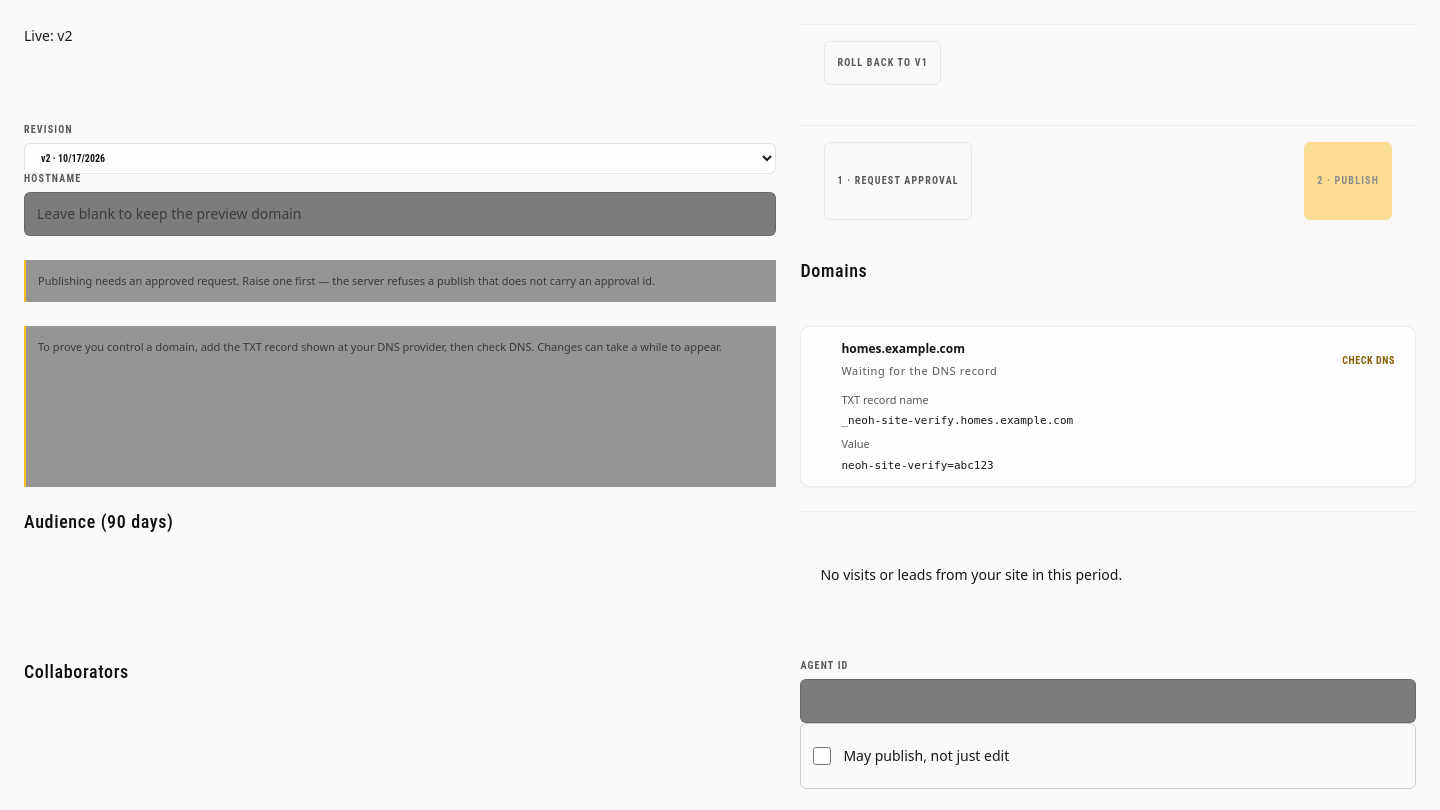
Test: SitePublishPanel › checks DNS and says plainly that nothing changed when DNS cannot be reached
Click the button "Check DNS". click: [1369, 361]
box: 1342,339 -> 1395,383
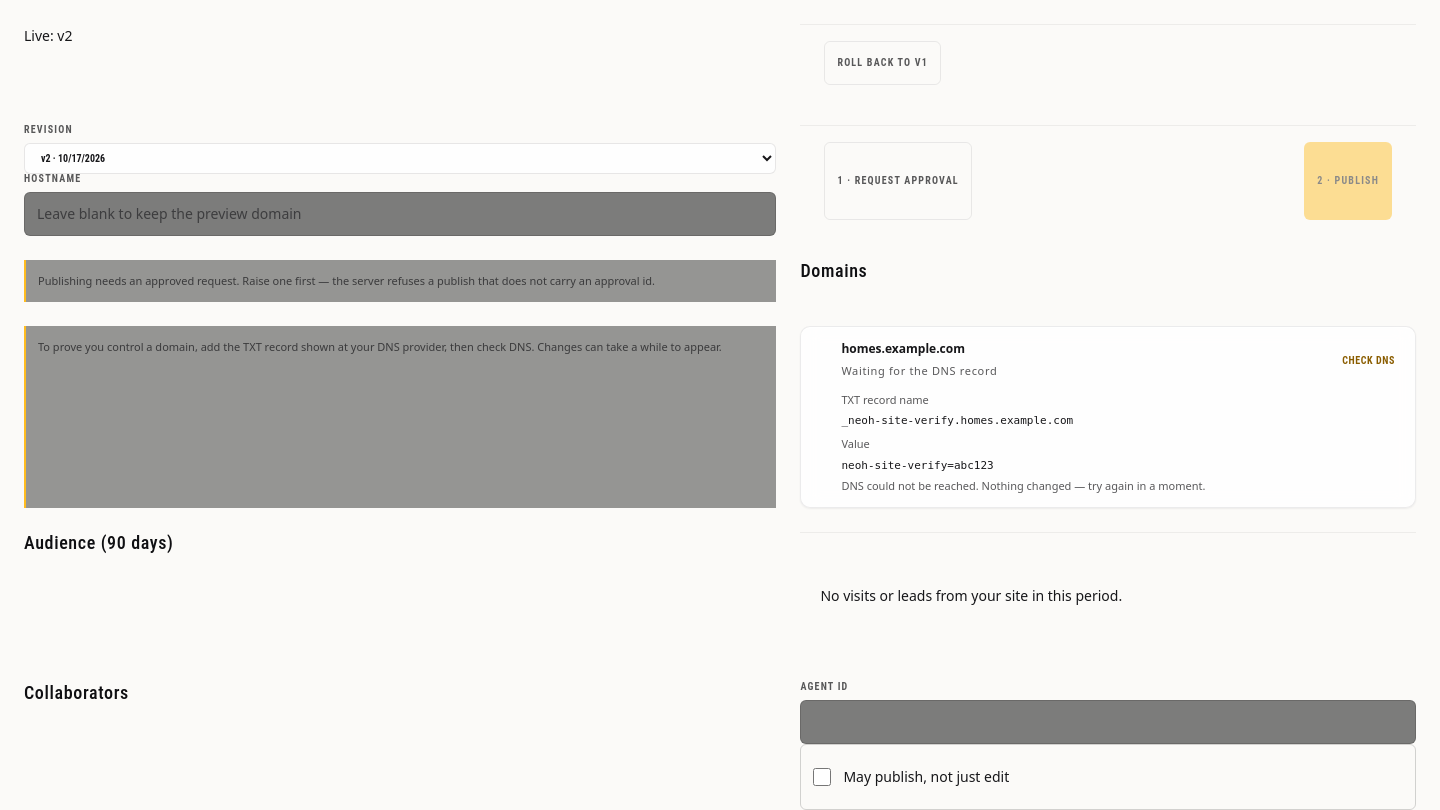
Expected: the text "Waiting for the DNS record" is shown, 841,363 -> 997,378
Expected: the text "DNS could not be reached. Nothing changed — try again in a moment." is shown, 841,478 -> 1205,493
